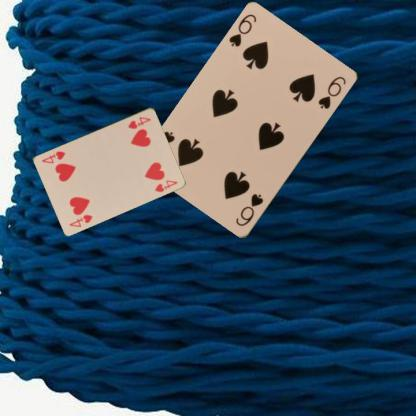4h: (66, 212, 94, 228), (125, 114, 152, 130)
6s: (226, 11, 258, 48), (233, 191, 264, 228)
